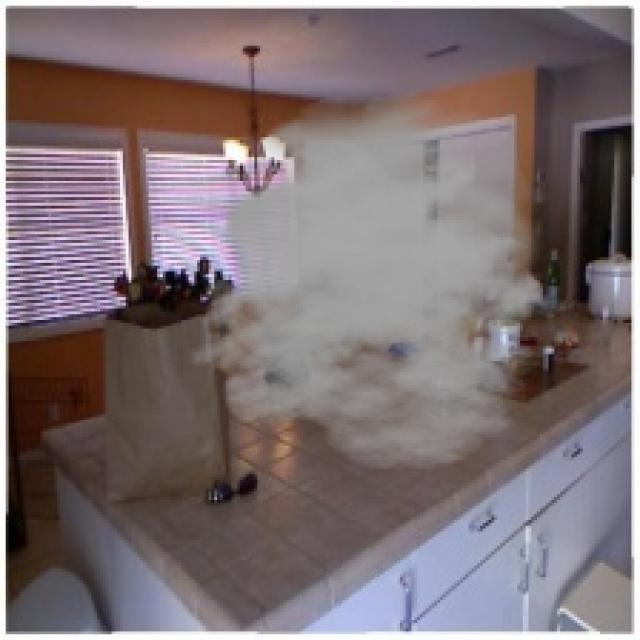Smoke: (188, 91, 588, 472)
